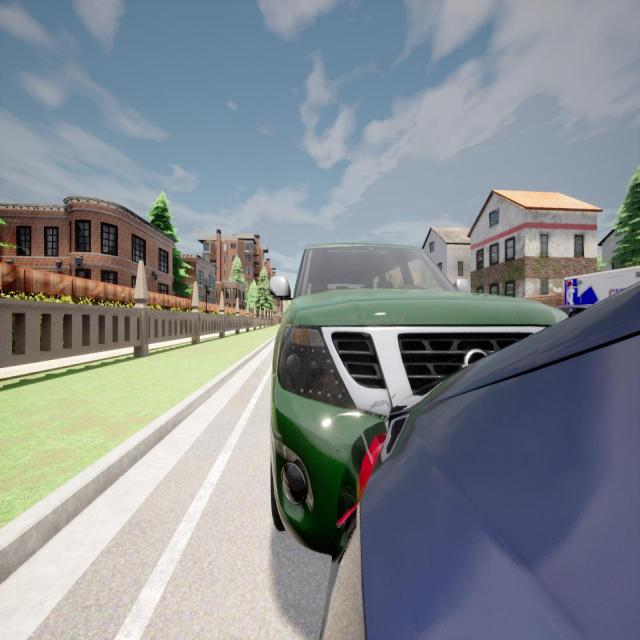Vehicle: (305, 279, 640, 637), (268, 243, 590, 545), (560, 264, 638, 304)
